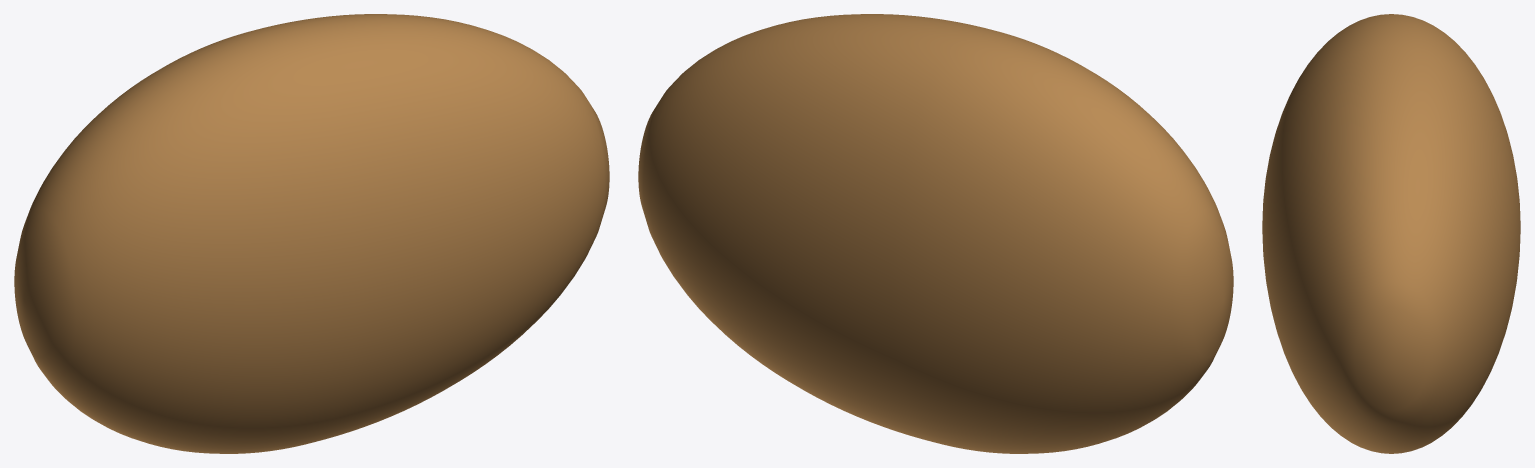
File: almond-in-shell.glb
The picture shows the model from 3 angles, left to right: view 1: azimuth 30°, elevation 25°; view 2: azimuth 150°, elevation 25°; view 3: azimuth 270°, elevation 25°; orthographic projection. The views are drawn at different scales.
Parts seen in each view (by area): view 1: world; view 2: world; view 3: world.
Part boxes in pixels (box(x1,y1,x2,y2)): world: box(14, 14, 609, 453); world: box(638, 14, 1233, 453); world: box(1262, 14, 1520, 453).
Size of the model in its own units: 0.03 by 0.02 by 0.013.
